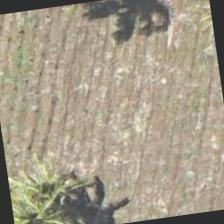Kelapa_Sawit: (4, 139, 104, 223), (9, 172, 83, 223)
